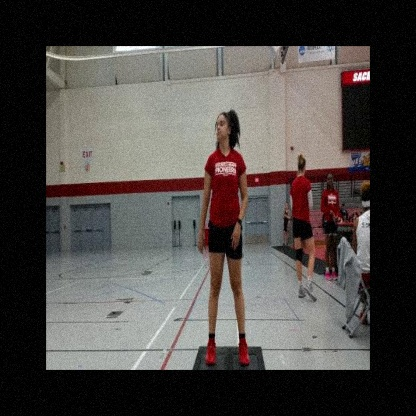lateral_flexion_left: (199, 105, 252, 370)
stance_width_normal: (197, 145, 252, 370)
